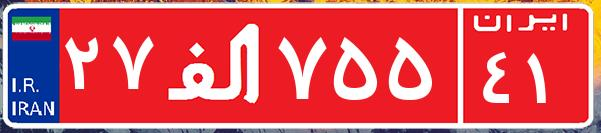1: (525, 38, 570, 115)
2: (57, 26, 110, 107)
4: (475, 38, 525, 113)
5: (385, 28, 445, 110), (330, 28, 385, 110)
7: (273, 28, 330, 110), (110, 28, 158, 105)
الف: (158, 15, 273, 115)
